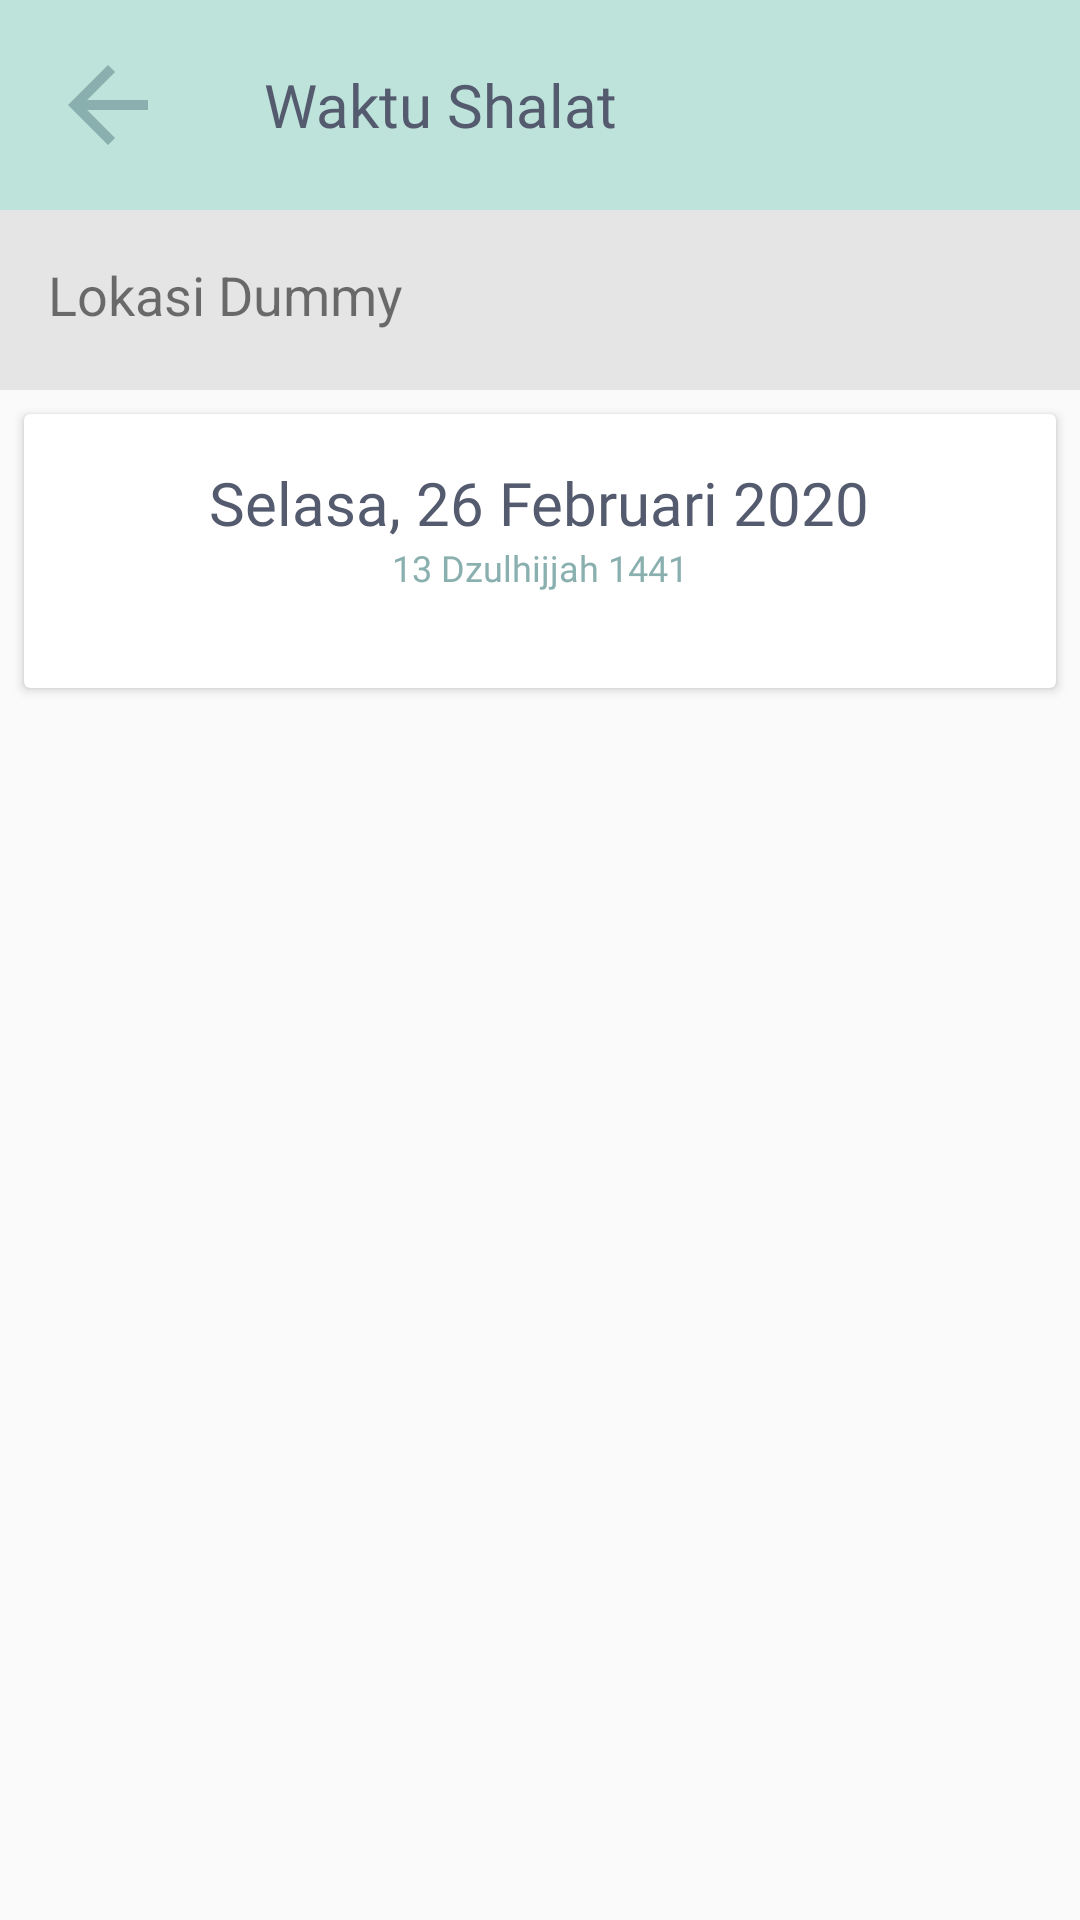

Named icons in this screenshot (1080px x 1920px) and their bounding boxes, (x1, y1, x2, y2):
back arrow: (68, 65, 148, 145)
